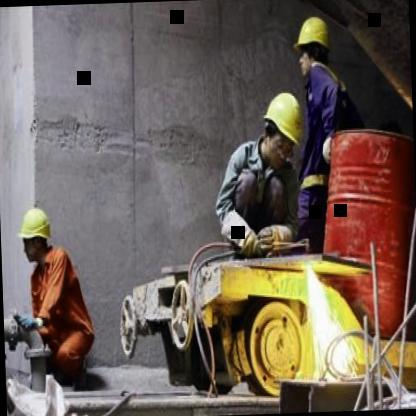helmet: (254, 86, 310, 171), (290, 12, 335, 83), (16, 202, 55, 267)
